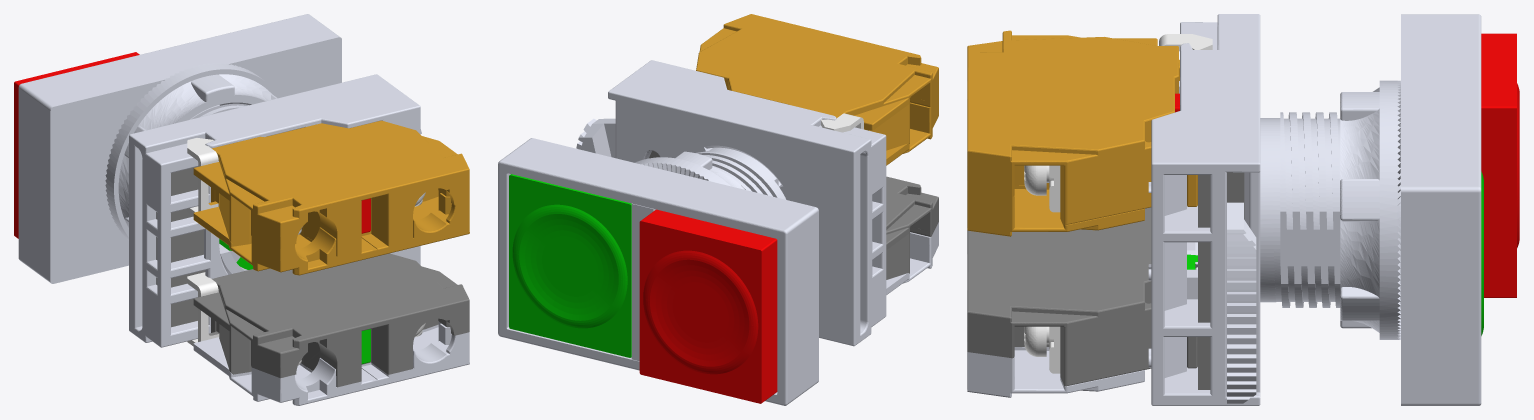
The model's file is nhd-npb22-d11.glb.
The picture shows the model from 3 angles, left to right: view 1: azimuth 30°, elevation 25°; view 2: azimuth 150°, elevation 25°; view 3: azimuth 270°, elevation 25°; orthographic projection. The views are drawn at different scales.
Parts seen in each view (by area): view 1: Node2, Node3, Node6, Node1, Node5, Node4, Node8; view 2: Node2, Node1, Node8, Node7, Node3, Node6, Node5, Node4; view 3: Node2, Node3, Node1, Node6, Node5, Node8, Node4.
Boxes of the visible parts, left/top/right/bottom form: Node2: left=18, top=14, right=421, bottom=347; Node3: left=193, top=120, right=469, bottom=275; Node6: left=156, top=166, right=469, bottom=387; Node1: left=105, top=63, right=374, bottom=274; Node5: left=193, top=321, right=469, bottom=405; Node4: left=187, top=138, right=425, bottom=365; Node8: left=14, top=52, right=370, bottom=238; Node2: left=498, top=60, right=886, bottom=405; Node1: left=499, top=91, right=855, bottom=404; Node8: left=639, top=209, right=777, bottom=403; Node7: left=509, top=174, right=631, bottom=357; Node3: left=696, top=14, right=938, bottom=165; Node6: left=649, top=150, right=938, bottom=279; Node5: left=577, top=131, right=938, bottom=294; Node4: left=821, top=113, right=863, bottom=132; Node2: left=1148, top=14, right=1481, bottom=405; Node3: left=967, top=30, right=1197, bottom=236; Node1: left=1195, top=14, right=1400, bottom=404; Node6: left=967, top=172, right=1244, bottom=389; Node5: left=967, top=93, right=1400, bottom=403; Node8: left=1175, top=33, right=1519, bottom=297; Node4: left=1024, top=34, right=1212, bottom=373.
Bounding box in the file's own units: 48.8 × 30.2 × 61.8.
